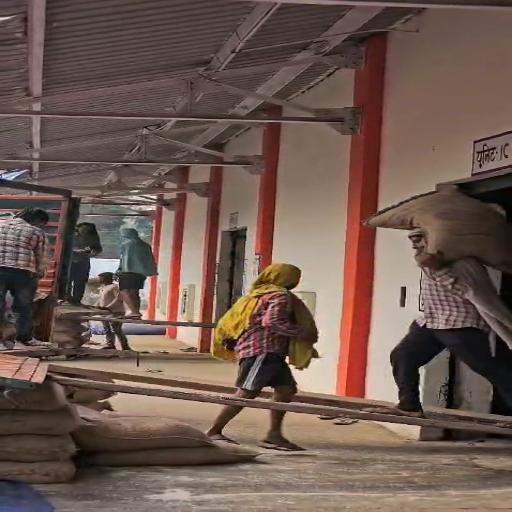bag: (362, 183, 512, 269)
